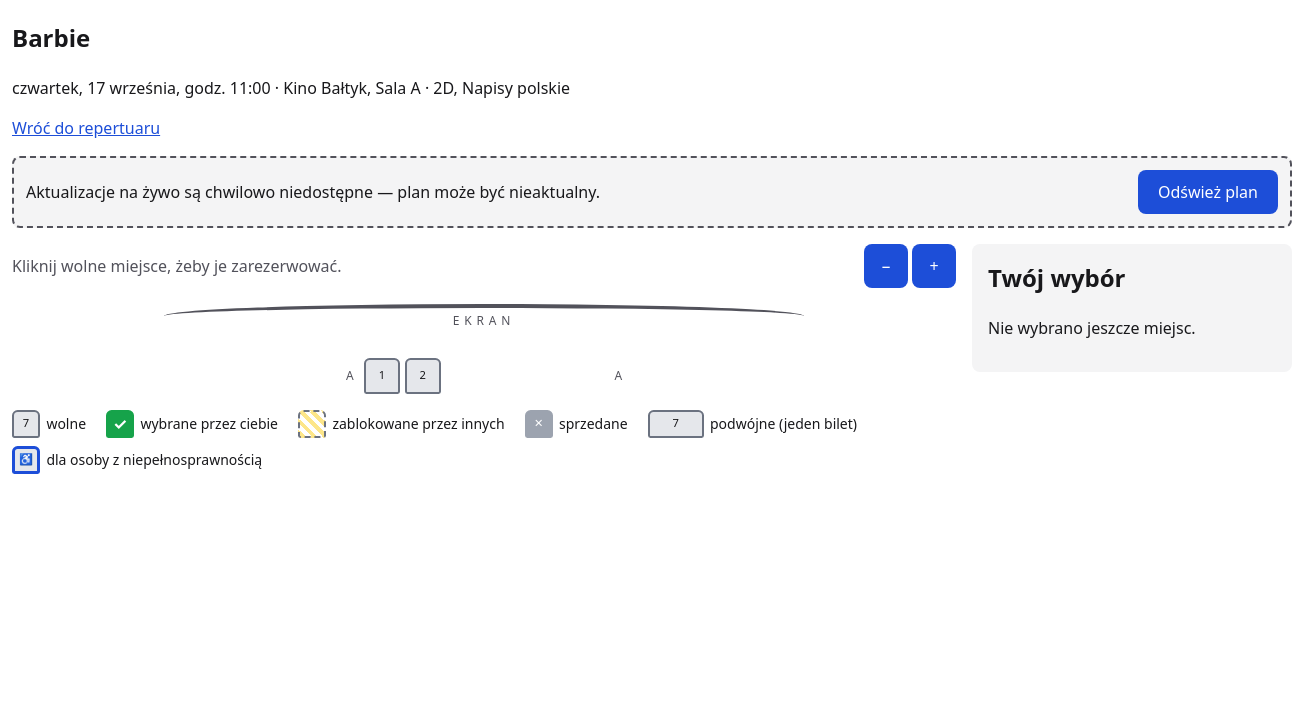
Test case: ekran wyboru miejsc › odmowa serwera (409) jest ogłaszana jako alert, a miejsce nie trafia do koszyka
This screenshot has width=1292, height=720.
Step 1. Click the button "2" → click(423, 376), box [405, 358, 441, 394]
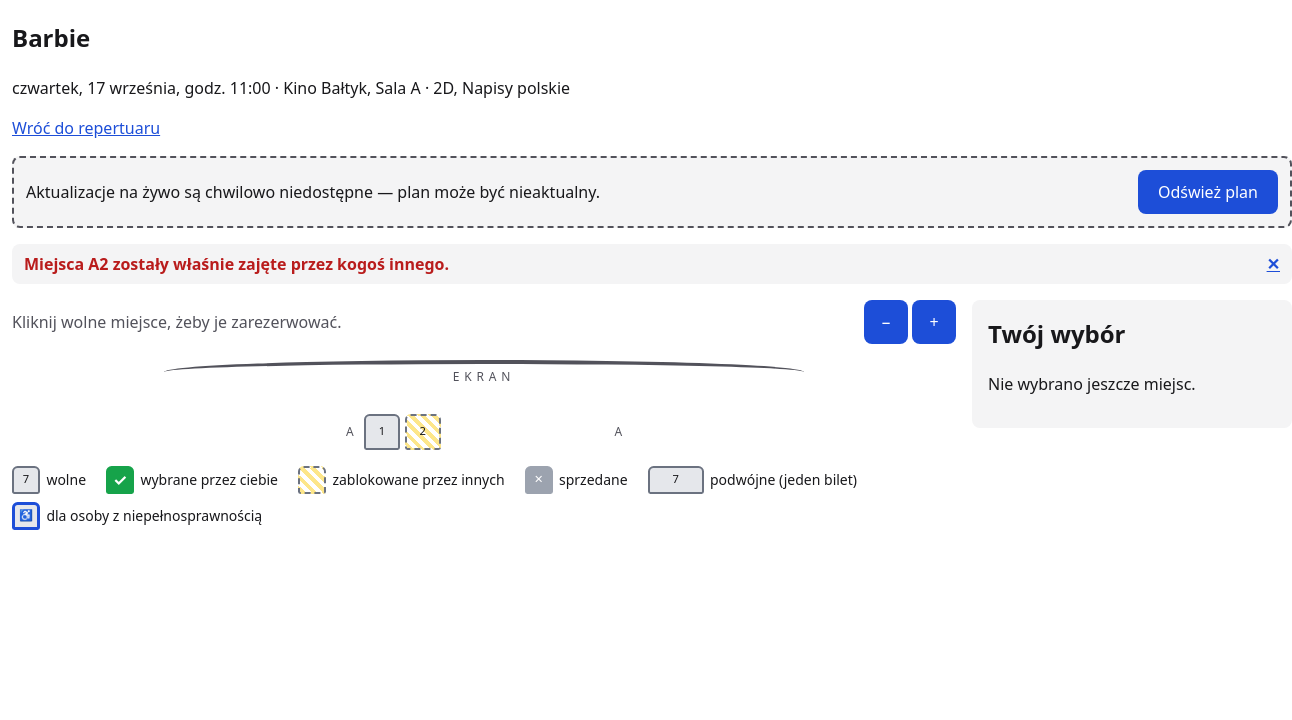
Expected: the text "Nie wybrano jeszcze miejsc." is shown, [988, 373, 1196, 395]
Expected: the message with test id "cart-notice" shows "zajęte przez kogoś innego", [24, 253, 449, 275]
Expected: the button "2" is disabled, [405, 414, 441, 450]
